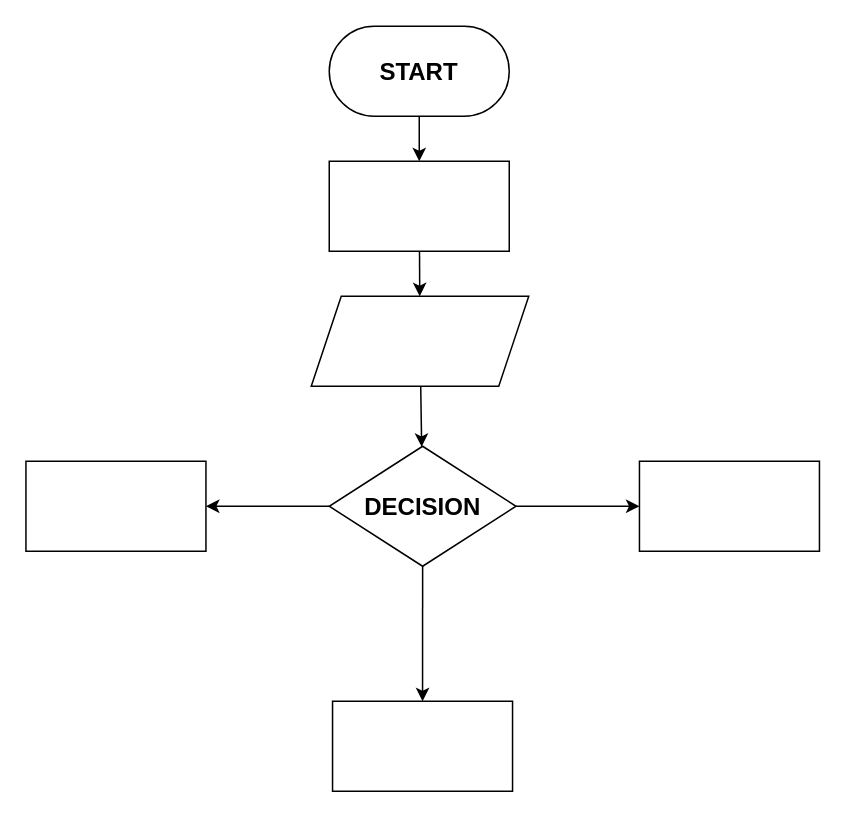
The diagram is 846 pixels wide and 818 high, and some of its shapes have lost their labels. The centre of each missing label's shape, as x and y in pixels:
"BUTTON PRESSED" belongs at (x=419, y=340).
"INITIALISE MODULES" belongs at (x=418, y=205).
